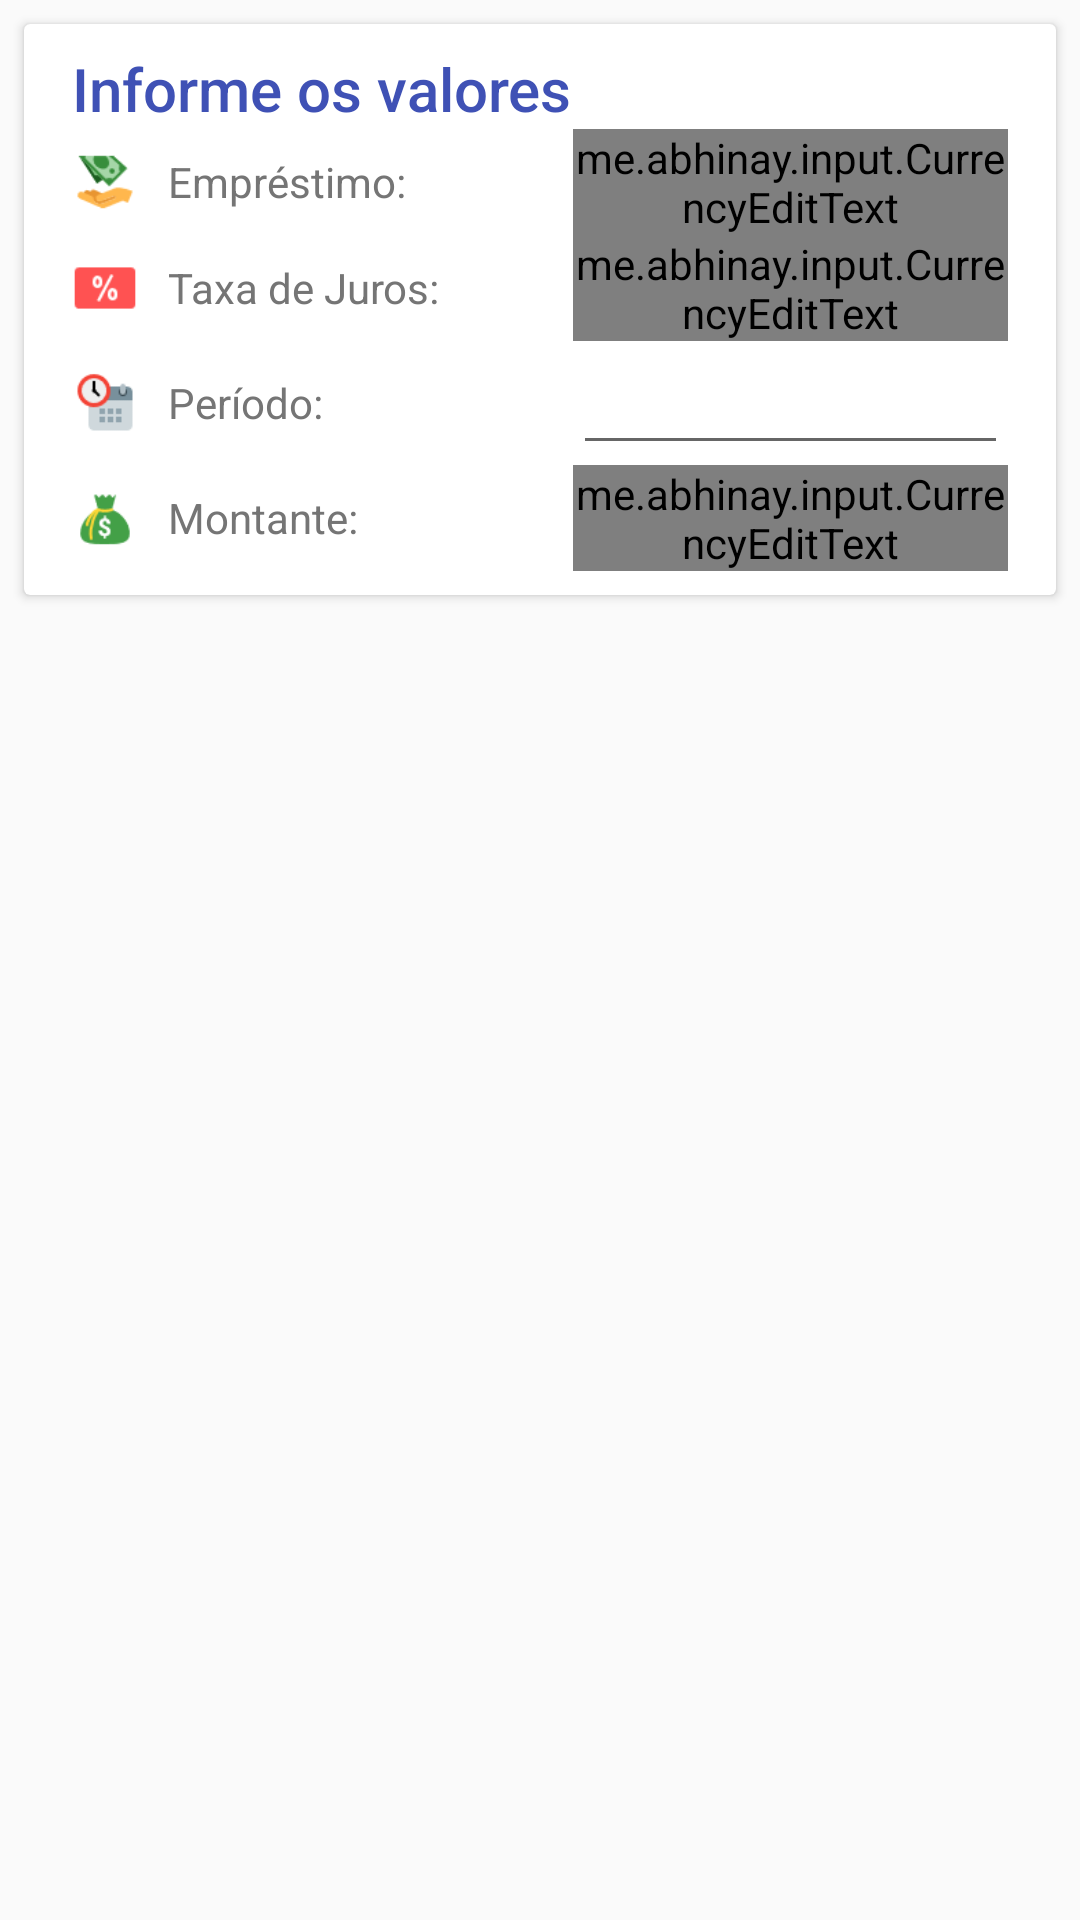

Where icons sit on this 1080px x 1920px app screen, as (x1, y1, x2, y2):
money bag: (80, 494, 130, 545)
overtime: (77, 374, 133, 430)
